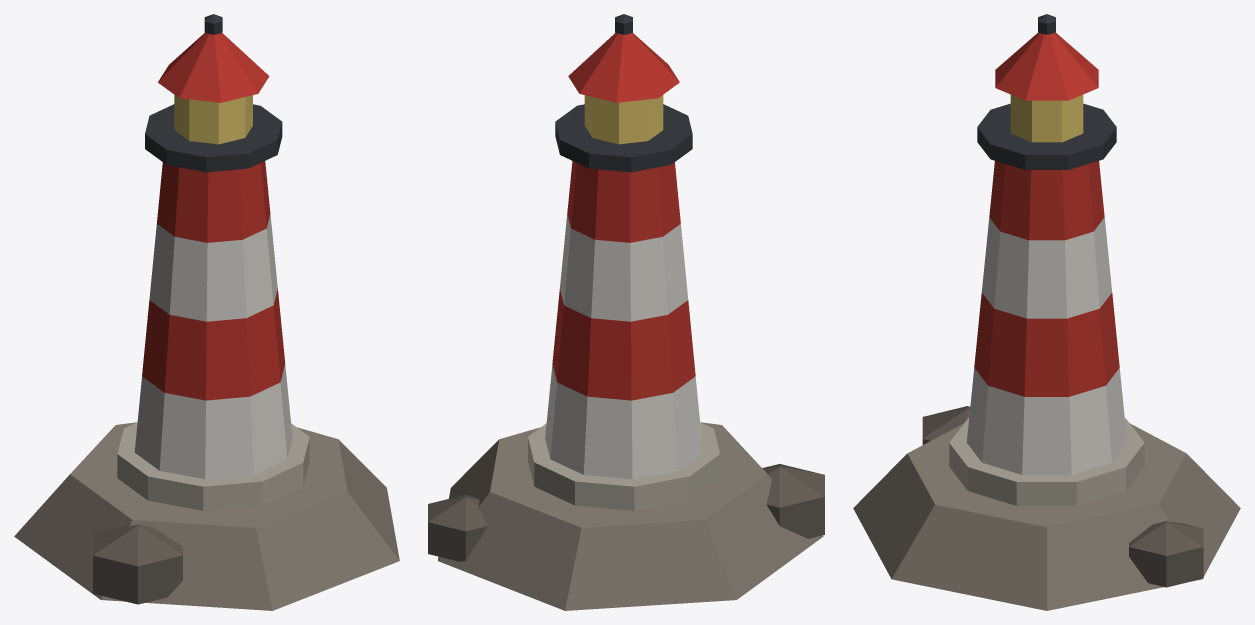
File: lighthouse.glb
3 views of the same model, side by side, from view 1: azimuth 30°, elevation 25°; view 2: azimuth 150°, elevation 25°; view 3: azimuth 270°, elevation 25° (orthographic).
Visible parts, largest first — view 1: rock, band1, band2, band3, band4, base, boulder1, gallery, cap, lantern; view 2: rock, band1, band2, band3, band4, base, gallery, cap, boulder1, lantern, boulder2; view 3: rock, band1, band2, band3, band4, base, gallery, cap, boulder2, lantern, boulder1.
Part boxes in pixels (x1=…): rock: x1=14, y1=422, x2=399, y2=610; band1: x1=134, y1=364, x2=292, y2=479; band2: x1=142, y1=288, x2=285, y2=400; band3: x1=149, y1=214, x2=277, y2=321; band4: x1=157, y1=161, x2=270, y2=242; base: x1=117, y1=422, x2=309, y2=510; boulder1: x1=93, y1=524, x2=182, y2=604; gallery: x1=145, y1=104, x2=282, y2=172; cap: x1=158, y1=33, x2=269, y2=102; lantern: x1=174, y1=95, x2=252, y2=144; rock: x1=438, y1=422, x2=823, y2=610; band1: x1=545, y1=364, x2=702, y2=479; band2: x1=552, y1=289, x2=695, y2=400; band3: x1=560, y1=214, x2=688, y2=321; band4: x1=567, y1=161, x2=680, y2=242; base: x1=528, y1=422, x2=720, y2=510; gallery: x1=555, y1=104, x2=692, y2=172; cap: x1=568, y1=32, x2=679, y2=102; boulder1: x1=762, y1=464, x2=824, y2=538; lantern: x1=584, y1=95, x2=663, y2=144; boulder2: x1=428, y1=495, x2=487, y2=561; rock: x1=853, y1=423, x2=1240, y2=610; band1: x1=966, y1=368, x2=1127, y2=474; band2: x1=974, y1=293, x2=1119, y2=396; band3: x1=981, y1=218, x2=1112, y2=318; band4: x1=989, y1=161, x2=1104, y2=240; base: x1=949, y1=418, x2=1144, y2=505; gallery: x1=977, y1=103, x2=1116, y2=169; cap: x1=995, y1=32, x2=1098, y2=100; boulder2: x1=1129, y1=521, x2=1203, y2=587; lantern: x1=1010, y1=95, x2=1083, y2=142; boulder1: x1=922, y1=406, x2=970, y2=444.
Bounding box in the file's own units: 0.5776 × 0.876 × 0.5843.
